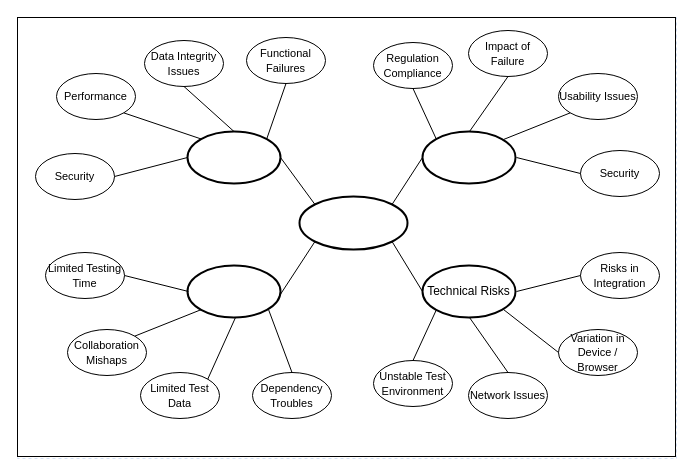
Image size: 694x476. Some labels were removed from this diagram. The shapes that lost their labels are listed below. From the top down, each one's centre as x and y in pixels, then its label:
point 233,157: Product Risks
point 468,157: Business Risks
point 353,222: Risks
point 233,291: Project Risks
